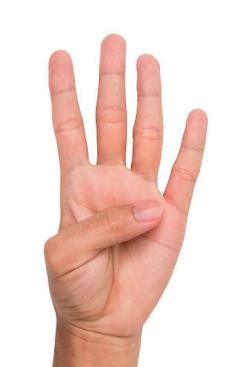right: (34, 30, 214, 329)
